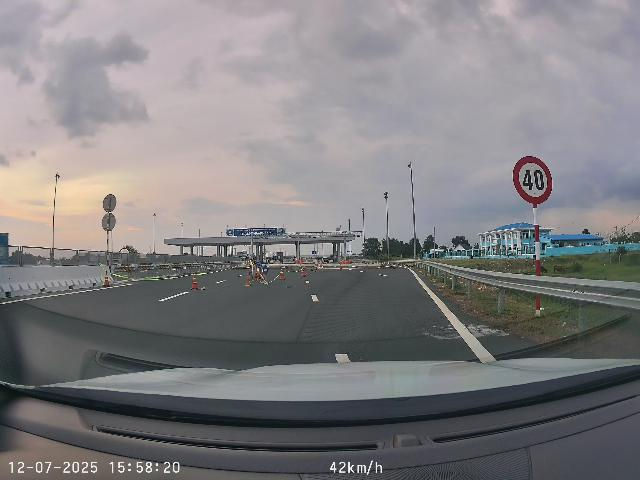127-toc-do-toi-da-40: (512, 156, 553, 204)
